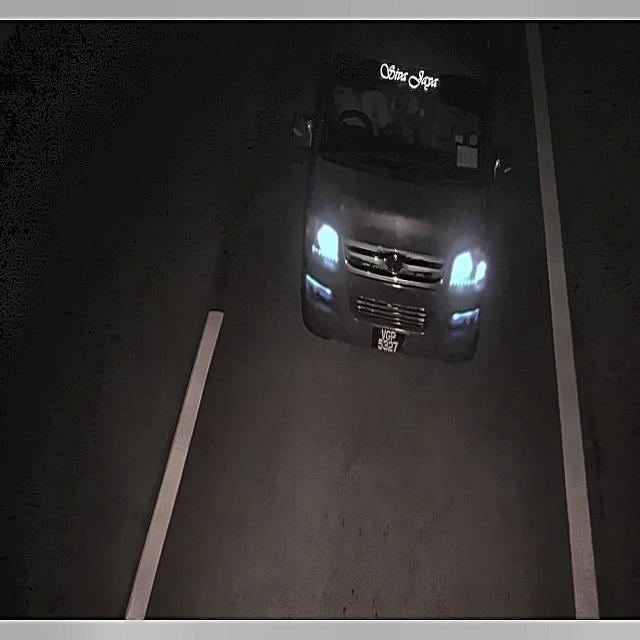car: (368, 319, 410, 361)
